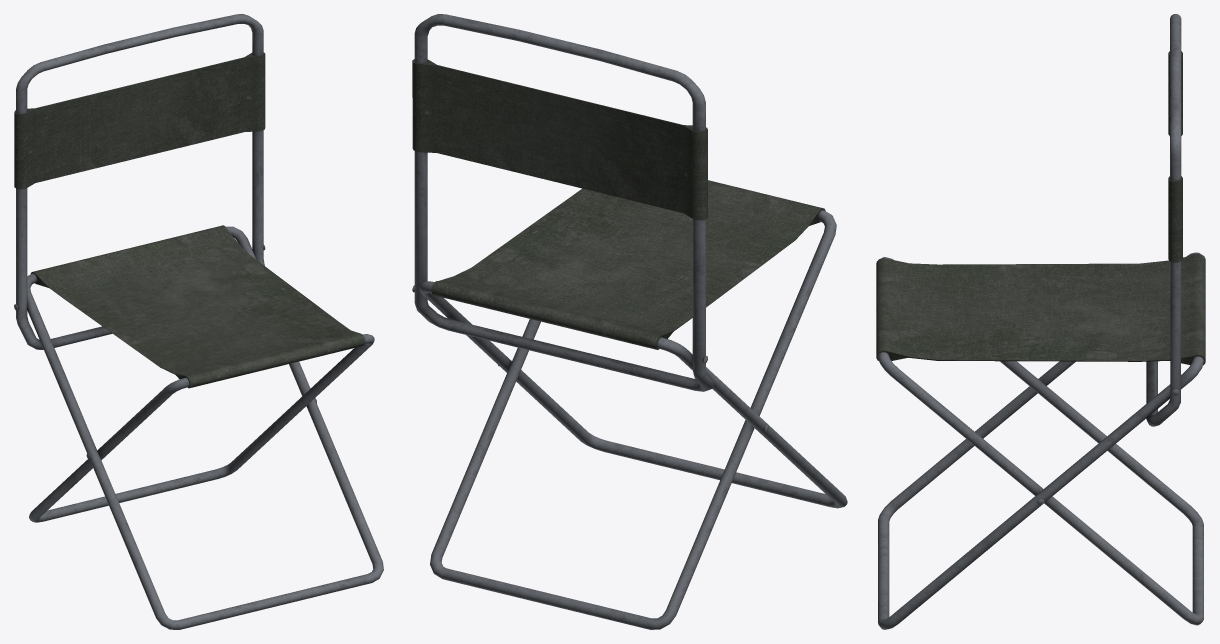
Rendered from sandalye.glb.
3 views of the same model, side by side, from view 1: azimuth 30°, elevation 25°; view 2: azimuth 150°, elevation 25°; view 3: azimuth 270°, elevation 25° (orthographic). The views are drawn at different scales.
Visible parts, largest first — view 1: Chair; view 2: Chair; view 3: Chair.
Part boxes in pixels (bbox=[...]): Chair: bbox=[14, 14, 383, 629]; Chair: bbox=[412, 14, 847, 629]; Chair: bbox=[876, 14, 1205, 629].
Bounding box in the file's own units: 0.5996 × 1.08 × 0.6329.
Materials: 1 (1 with a texture image).
